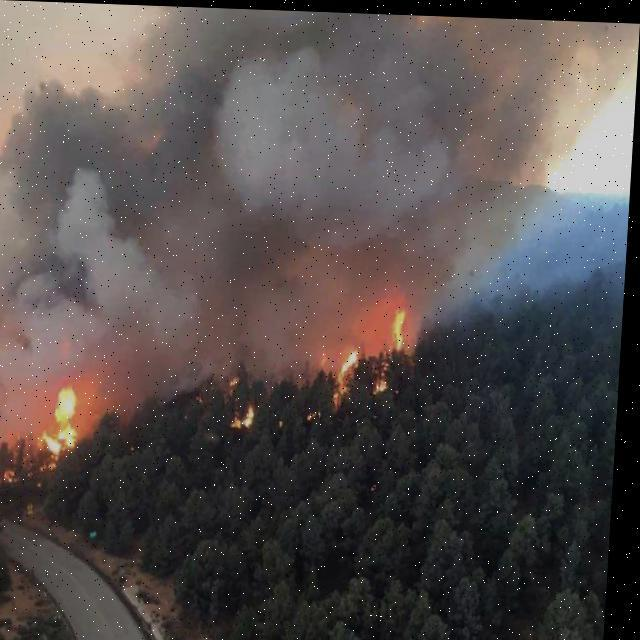Fire: (39, 388, 93, 466), (379, 299, 417, 392), (340, 349, 366, 404), (0, 433, 13, 496), (234, 406, 264, 432)
